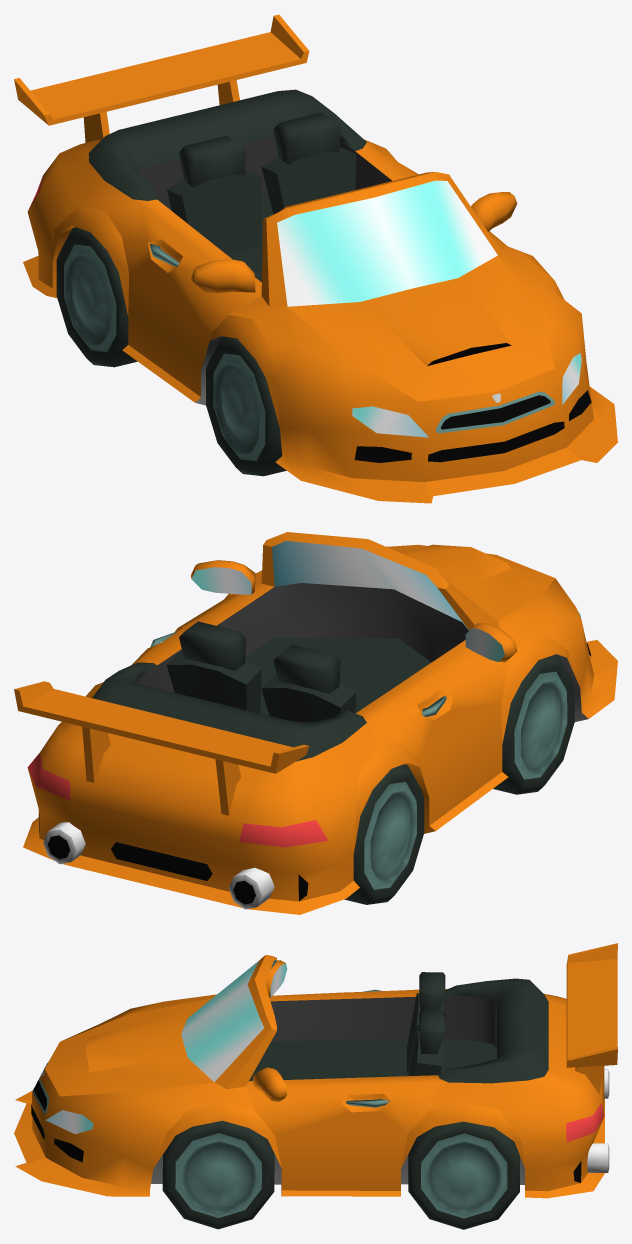
The model's file is car3.fbx.
3 views of the same model, one above another, from view 1: azimuth 30°, elevation 25°; view 2: azimuth 150°, elevation 25°; view 3: azimuth 270°, elevation 25° (orthographic). The views are drawn at different scales.
Visible parts, largest first — view 1: Car3; view 2: Car3; view 3: Car3.
Part boxes in pixels (bbox=[...]): Car3: bbox=[14, 14, 617, 503]; Car3: bbox=[14, 532, 617, 914]; Car3: bbox=[14, 943, 617, 1229].
Bounding box in the file's own units: 989 × 683 × 1951.
